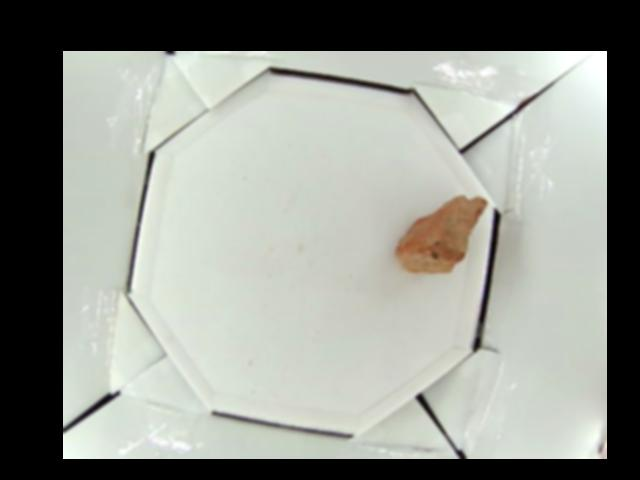Brisk: (396, 195, 491, 271)
